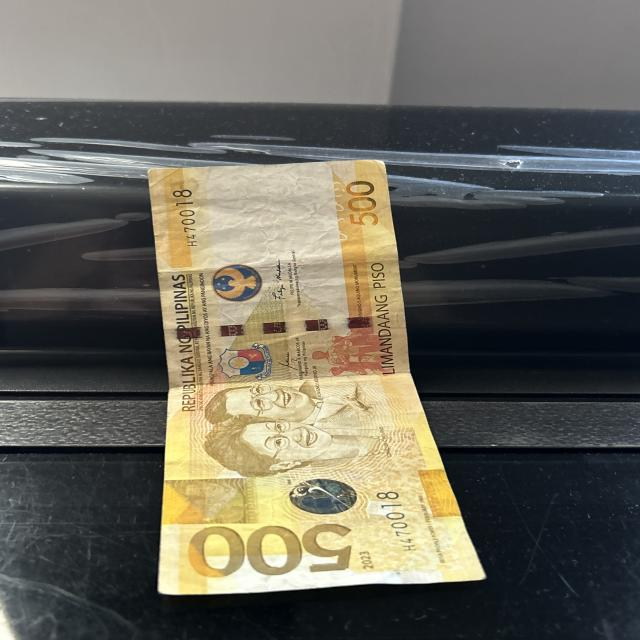concealed_value: (162, 476, 255, 526)
optically_variable_device: (289, 478, 359, 513)
watermark: (197, 174, 337, 260)
